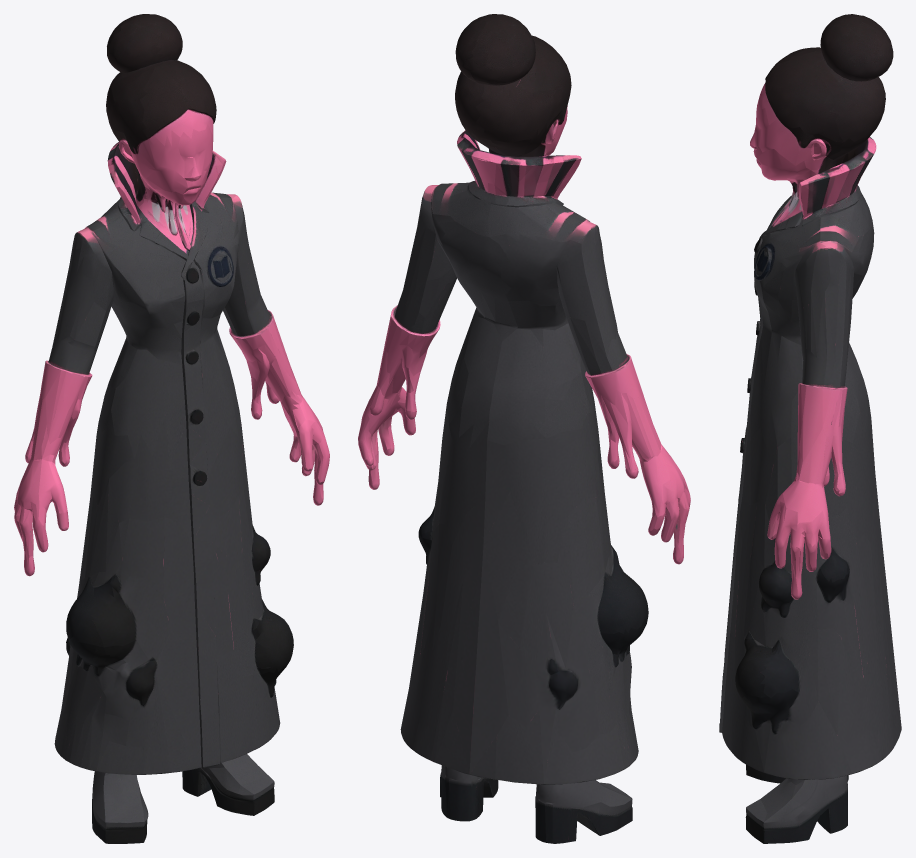
3 renders of one model, left to right at view 1: azimuth 30°, elevation 25°; view 2: azimuth 150°, elevation 25°; view 3: azimuth 270°, elevation 25°, orthographic. The views are drawn at different scales.
Size of the model in its own units: 0.7914 by 1.9 by 0.4014.
1 material, 1 textured.
